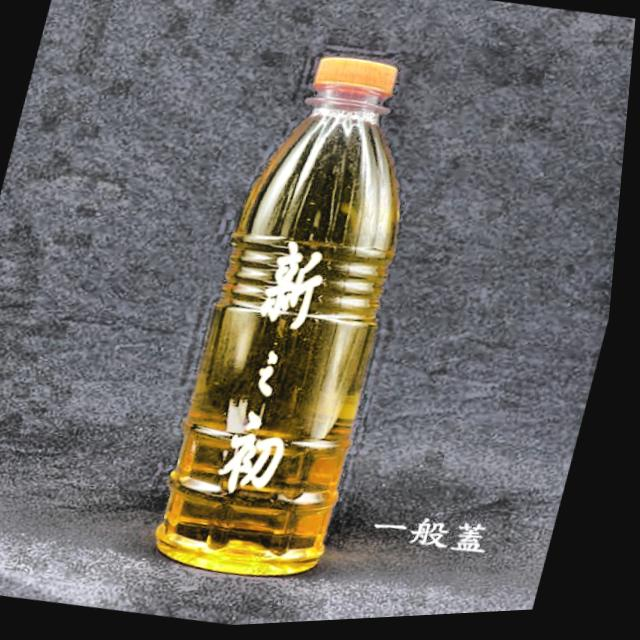Bottles: (126, 29, 481, 606)
